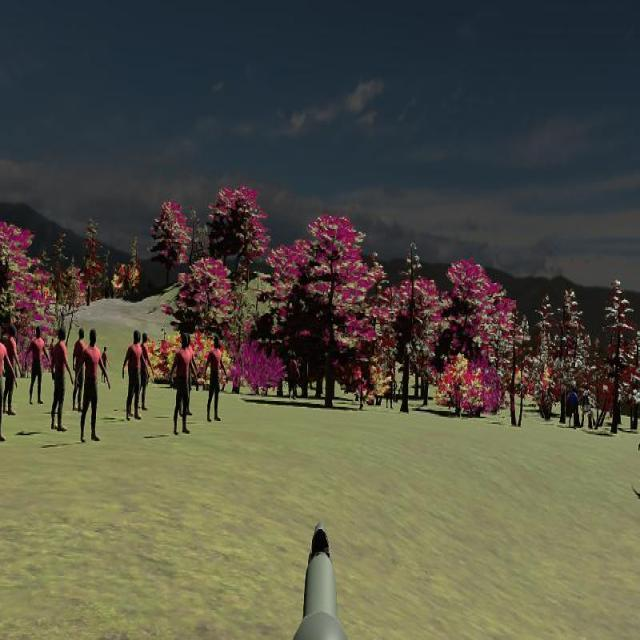Human: (76, 328, 110, 442), (169, 332, 198, 435), (51, 326, 73, 429), (24, 326, 51, 406), (122, 330, 146, 419), (205, 334, 227, 422), (205, 335, 227, 422), (0, 326, 16, 430), (135, 330, 154, 414), (4, 324, 22, 409), (5, 324, 23, 404), (73, 325, 88, 415), (73, 327, 90, 404)
